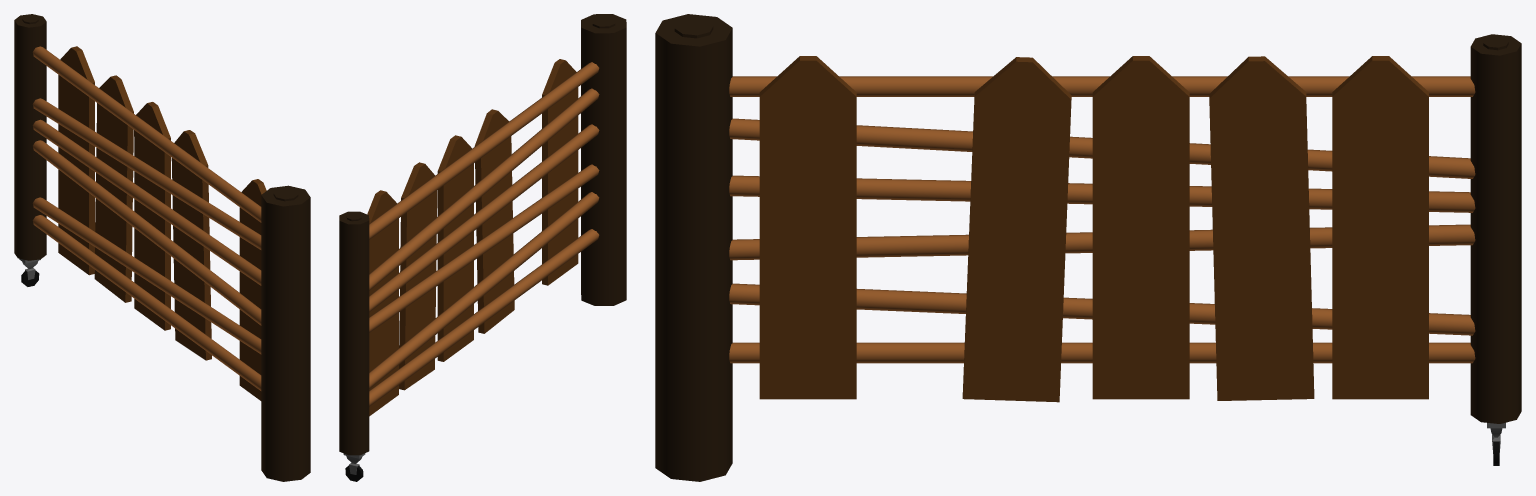
Rendered from Wooden portal#1.FBX.
3 renders of one model, left to right at view 1: azimuth 30°, elevation 25°; view 2: azimuth 150°, elevation 25°; view 3: azimuth 270°, elevation 25°, orthographic. The views are drawn at different scales.
Visible parts, largest first — view 1: Pyramid001; view 2: Pyramid001; view 3: Pyramid001.
Part boxes in pixels (x1=…): Pyramid001: x1=14, y1=14, x2=310, y2=481; Pyramid001: x1=339, y1=14, x2=626, y2=481; Pyramid001: x1=655, y1=14, x2=1521, y2=481.
Size of the model in its own units: 8.19 by 51.18 by 91.64.
